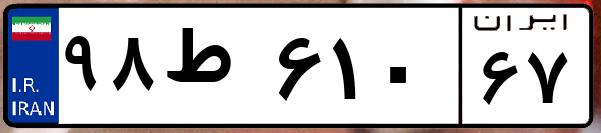0: (385, 28, 445, 110)
1: (330, 28, 385, 110)
6: (270, 28, 330, 110), (475, 38, 525, 113)
7: (525, 38, 570, 115)
8: (110, 28, 158, 98)
9: (57, 26, 110, 100)
ط: (158, 20, 270, 120)
